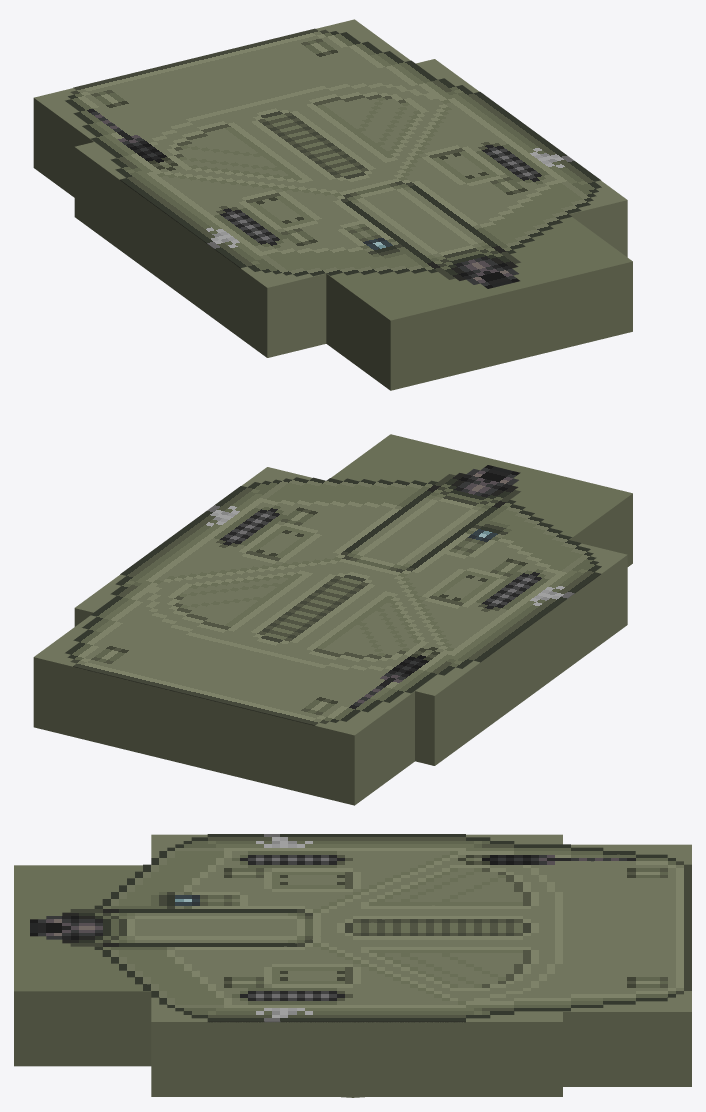
The model's file is CMU3DReduxVehicleSPPTankTurretMounted.glb.
3 renders of one model, top to bottom at view 1: azimuth 30°, elevation 25°; view 2: azimuth 150°, elevation 25°; view 3: azimuth 270°, elevation 25°, orthographic. The views are drawn at different scales.
Parts seen in each view (by area): view 1: turret original finish, turret section (×5); view 2: turret original finish, turret section (×5); view 3: turret original finish, turret section (×5).
Boxes of the visible parts, x1,y1,x2,y2 form: turret original finish: (65, 28, 601, 288); turret section (×5): (33, 19, 632, 390); turret original finish: (65, 465, 601, 725); turret section (×5): (33, 434, 632, 805); turret original finish: (30, 834, 691, 1022); turret section (×5): (14, 834, 691, 1096).
Bounding box in the file's own units: 1.72 × 0.542 × 2.62.
Materials: 3 (1 with a texture image).
